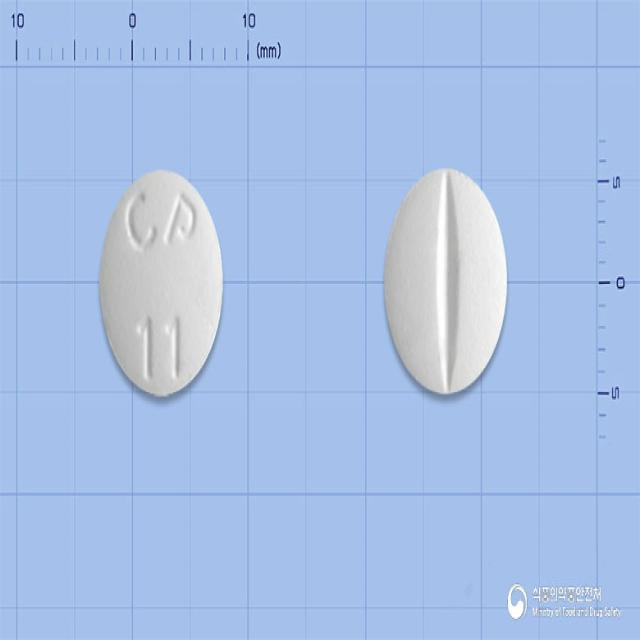Prodin Tab: (98, 164, 226, 398), (383, 168, 508, 398)
